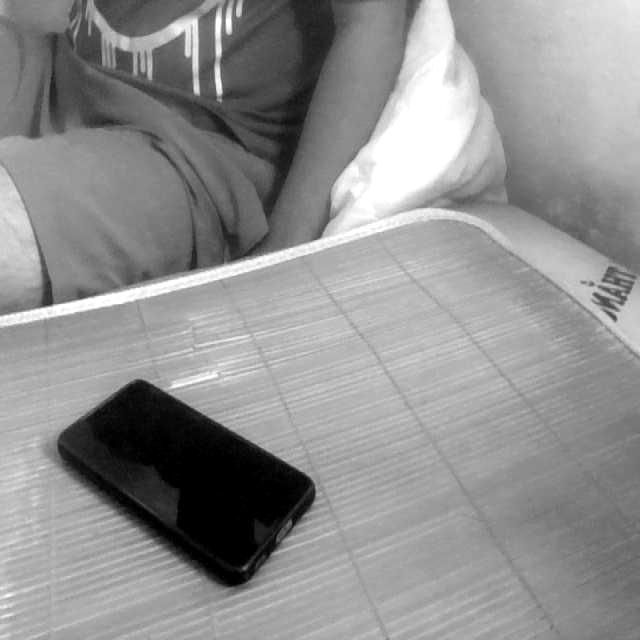phone: (51, 341, 331, 610)
